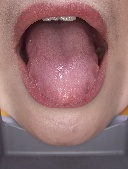tongue: (24, 31, 100, 106)
